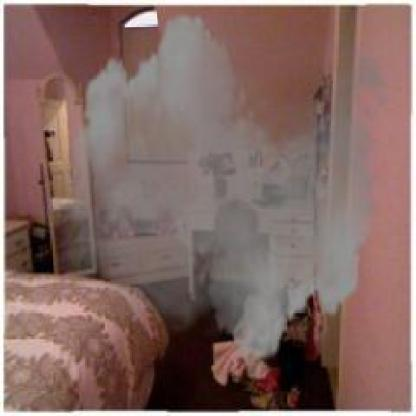Smoke: (51, 2, 401, 371)
